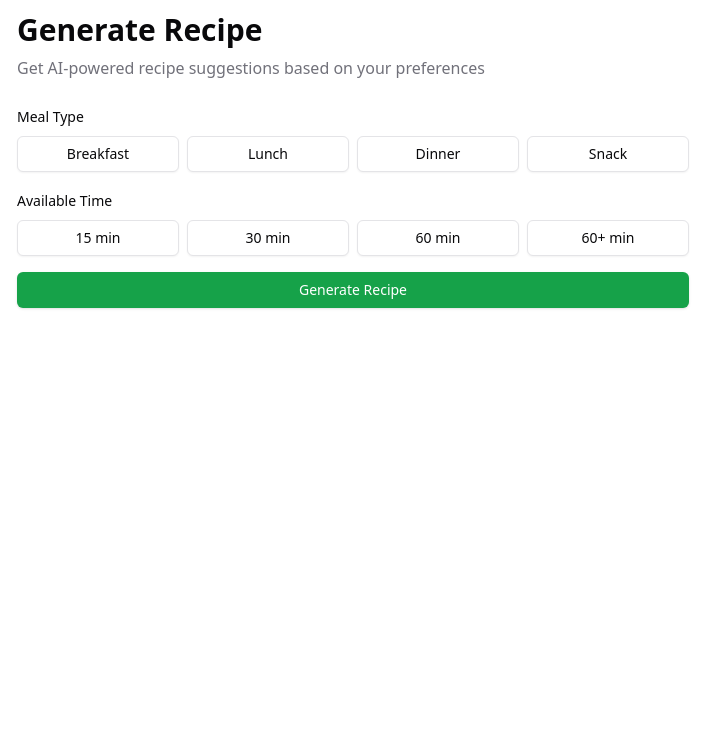
Test case: RecipeGenerator › allows saving generated recipe
// Generate recipe first
Click the button "Lunch": coordinates (268, 154) [187,136,349,172]
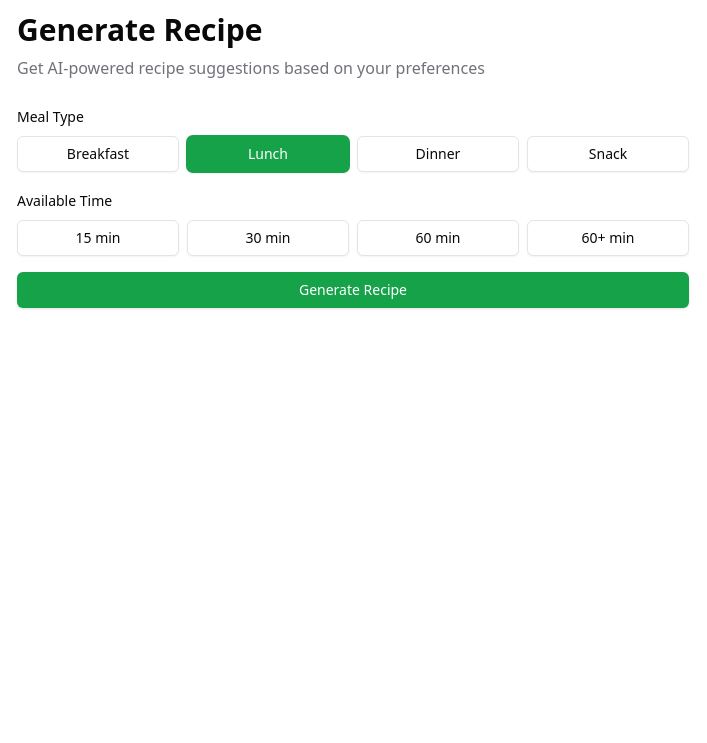
Click the button "15 min": coordinates (98, 238) [17,220,179,256]
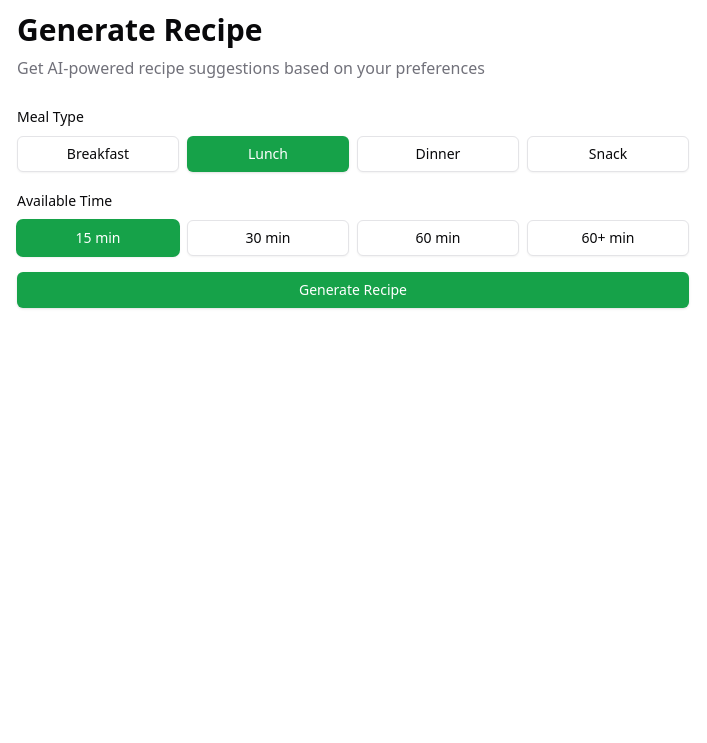
Click the button "Generate Recipe": coordinates (353, 290) [17,272,689,308]
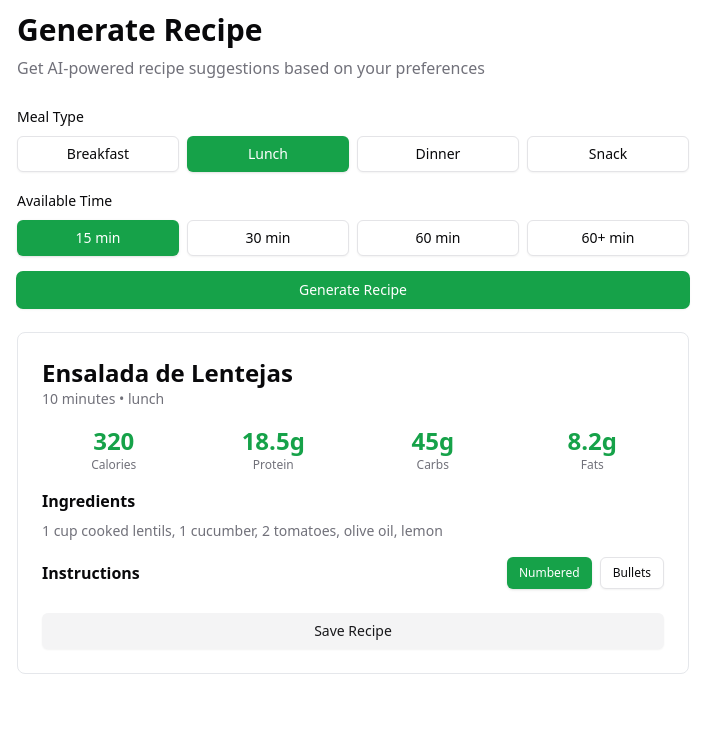
Expected: the heading "Ensalada de Lentejas" is shown, [42,356,293,389]
// Save the recipe
Click the button "Save Recipe": coordinates (353, 631) [42,613,664,649]
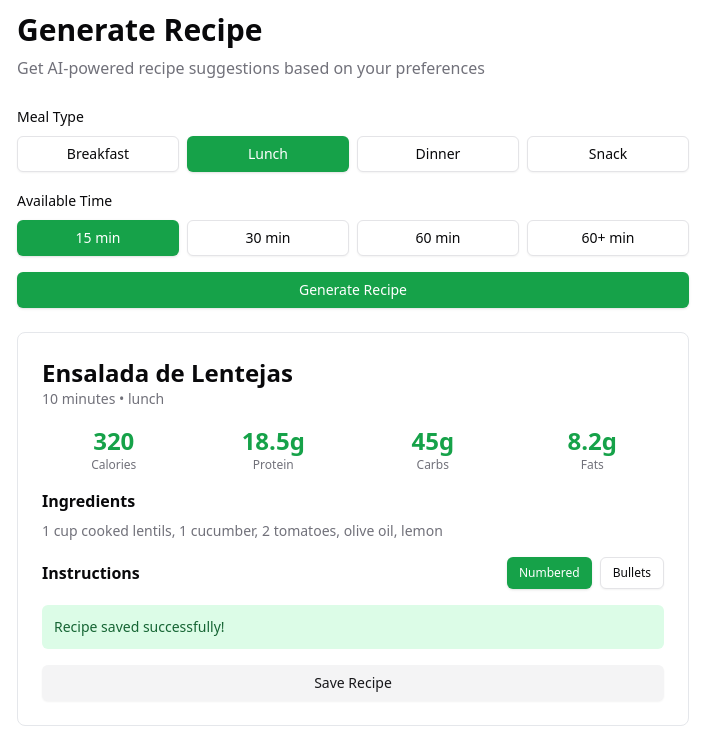
Expected: the text "Recipe saved successfully!" is shown, [42,605,664,649]
